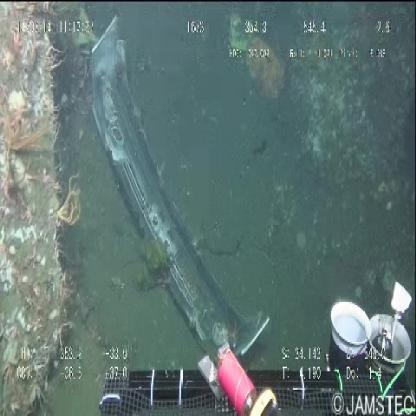Rov: (86, 274, 416, 411)
Rác: (74, 23, 273, 354)
